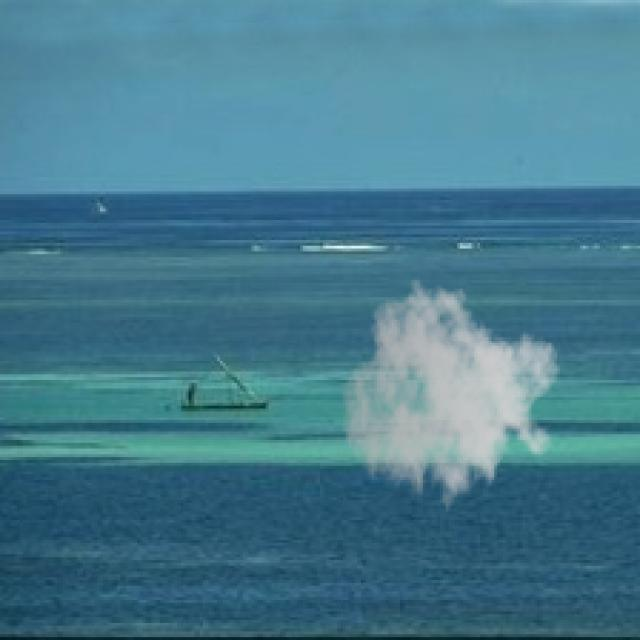smoke: (340, 277, 560, 526)
